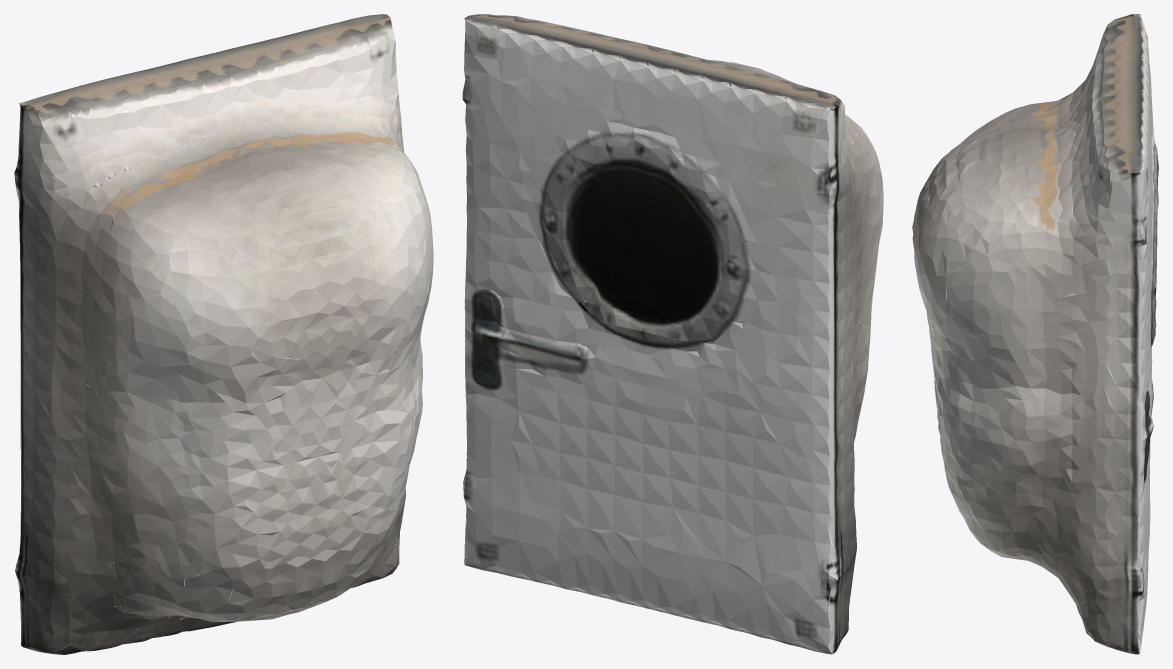
File: exit.glb
The picture shows the model from 3 angles, left to right: view 1: azimuth 30°, elevation 25°; view 2: azimuth 150°, elevation 25°; view 3: azimuth 270°, elevation 25°; orthographic projection. The views are drawn at different scales.
Visible parts, largest first — view 1: world; view 2: world; view 3: world.
Boxes of the visible parts, x1,y1,x2,y2 form: world: [14, 14, 433, 654]; world: [462, 14, 883, 654]; world: [912, 14, 1158, 654].
Size of the model in its own units: 0.5919 by 0.8326 by 0.3828.
1 material, 1 textured.
